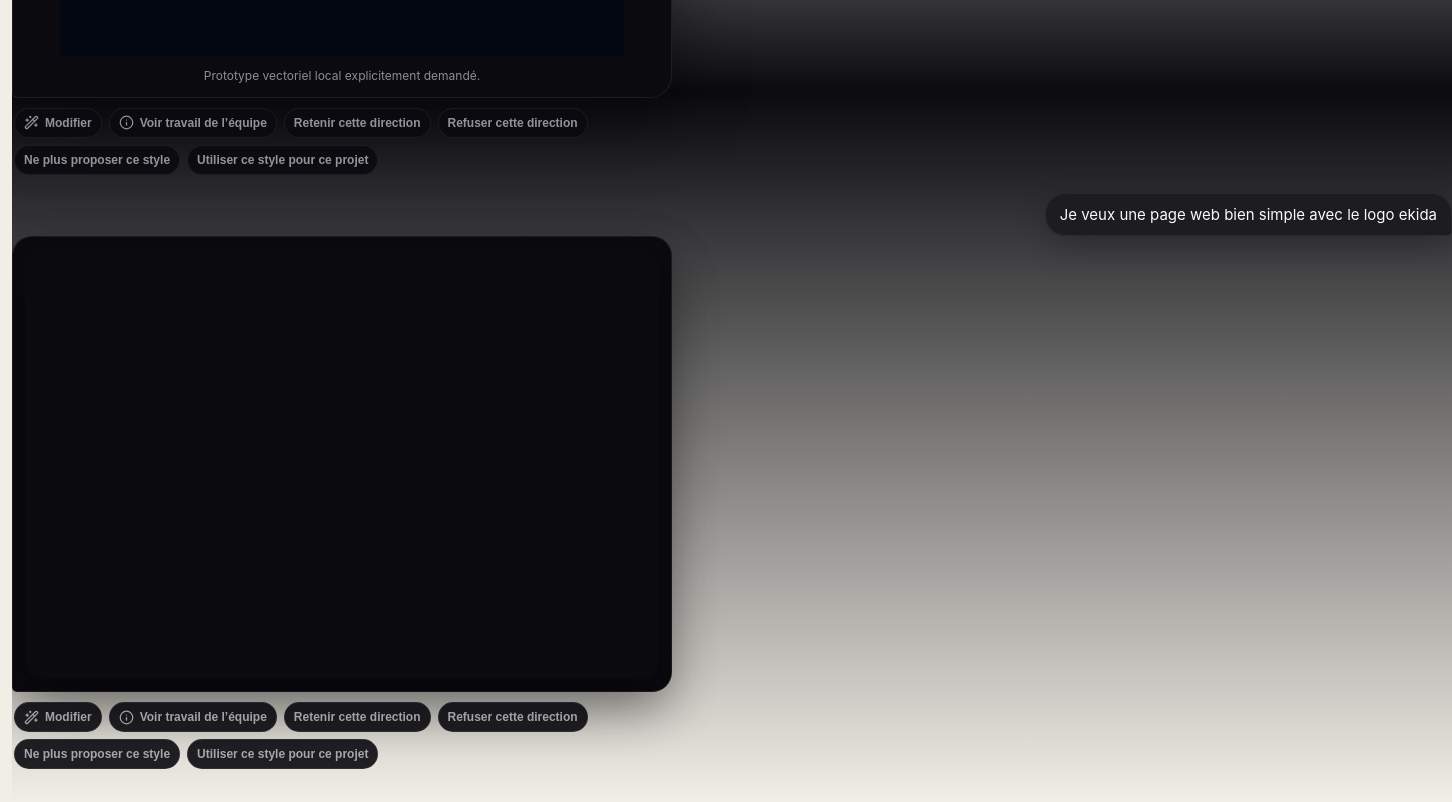
Test: CEO command components › keeps successive CEO messages tied to their own output and details
This screenshot has width=1452, height=802.
(page scrolled)
Expected: the text "Je veux une page web bien simple avec le logo ekida" is shown, [1045, 193, 1451, 236]
Click the 2nd button "Voir travail de l’équipe". click: (193, 717)
box: [109, 702, 277, 732]
(page scrolled)
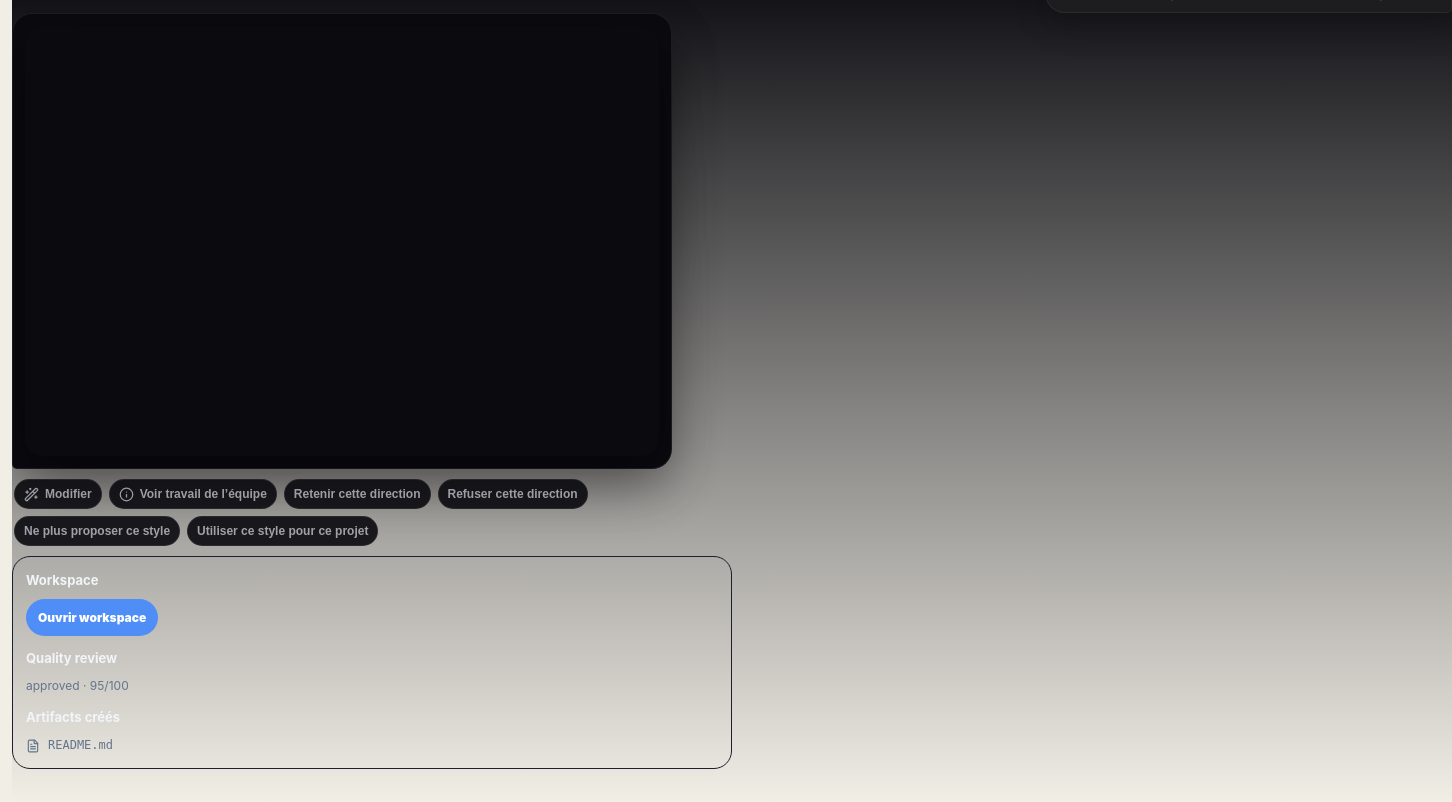
Expected: the text "README.md" is shown, [48, 736, 113, 755]
